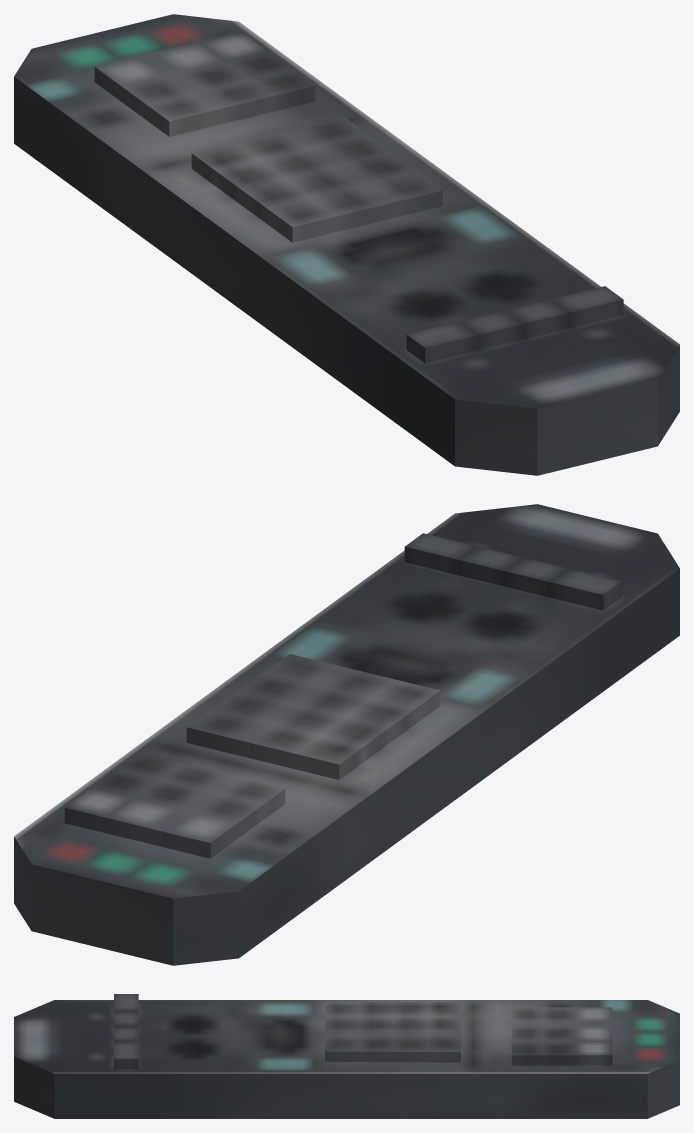
File: RemoteController.fbx
The picture shows the model from 3 angles, top to bottom: view 1: azimuth 30°, elevation 25°; view 2: azimuth 150°, elevation 25°; view 3: azimuth 270°, elevation 25°; orthographic projection. The views are drawn at different scales.
Visible parts, largest first — view 1: RemoteController; view 2: RemoteController; view 3: RemoteController.
Boxes of the visible parts, left/top/right/bottom form: RemoteController: left=14, top=14, right=679, bottom=475; RemoteController: left=14, top=504, right=679, bottom=965; RemoteController: left=14, top=994, right=679, bottom=1118.
Bounding box in the file's own units: 0.0716 × 0.0252 × 0.2729.
Materials: 1 (1 with a texture image).
